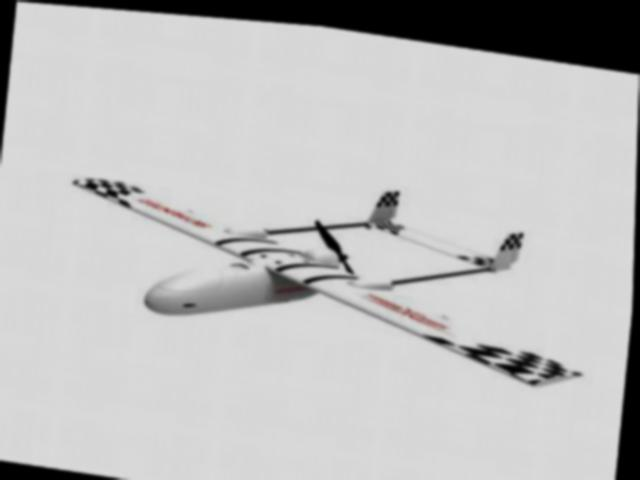uav: (53, 135, 601, 387)
